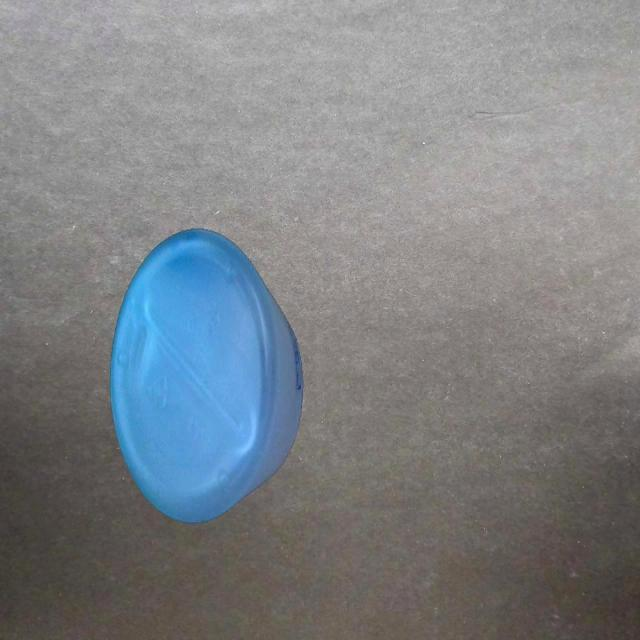bottle: (109, 226, 303, 521)
